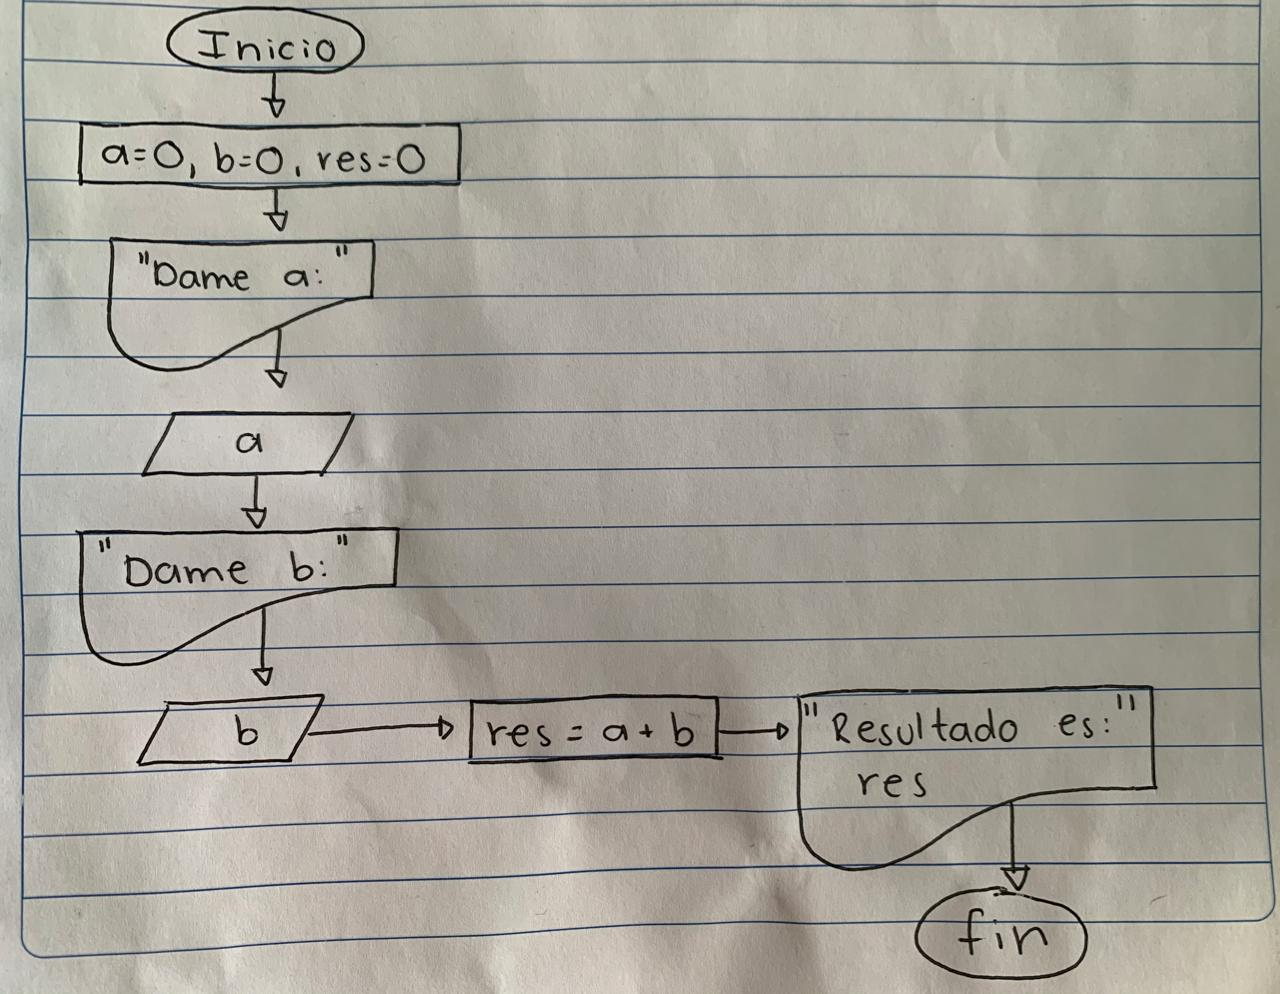arrow_line_down: (996, 797, 1042, 897), (259, 328, 299, 407), (249, 600, 279, 697), (257, 182, 298, 241), (235, 468, 274, 531), (262, 68, 294, 124)
arrow_line_right: (301, 716, 465, 745), (716, 717, 798, 745)
print: (791, 680, 1164, 877), (64, 521, 401, 670), (94, 229, 379, 370)
process: (71, 117, 471, 190), (460, 687, 730, 768)
scan: (140, 397, 364, 489), (123, 692, 334, 775)
start_end: (908, 878, 1093, 994), (157, 4, 376, 73)
